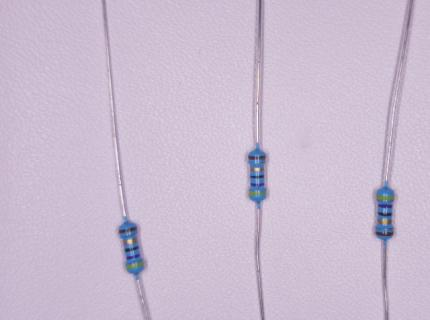Black band: (125, 246, 139, 252), (251, 175, 265, 179), (379, 213, 392, 216)
Brown band: (119, 227, 137, 234), (249, 155, 266, 160), (376, 232, 393, 236)
Gold band: (123, 237, 138, 246), (377, 219, 392, 224), (250, 167, 264, 171)
Violet band: (126, 254, 141, 260), (250, 183, 264, 187), (378, 204, 392, 208)
Yellow band: (126, 261, 145, 270), (248, 191, 267, 196), (376, 195, 395, 200)
